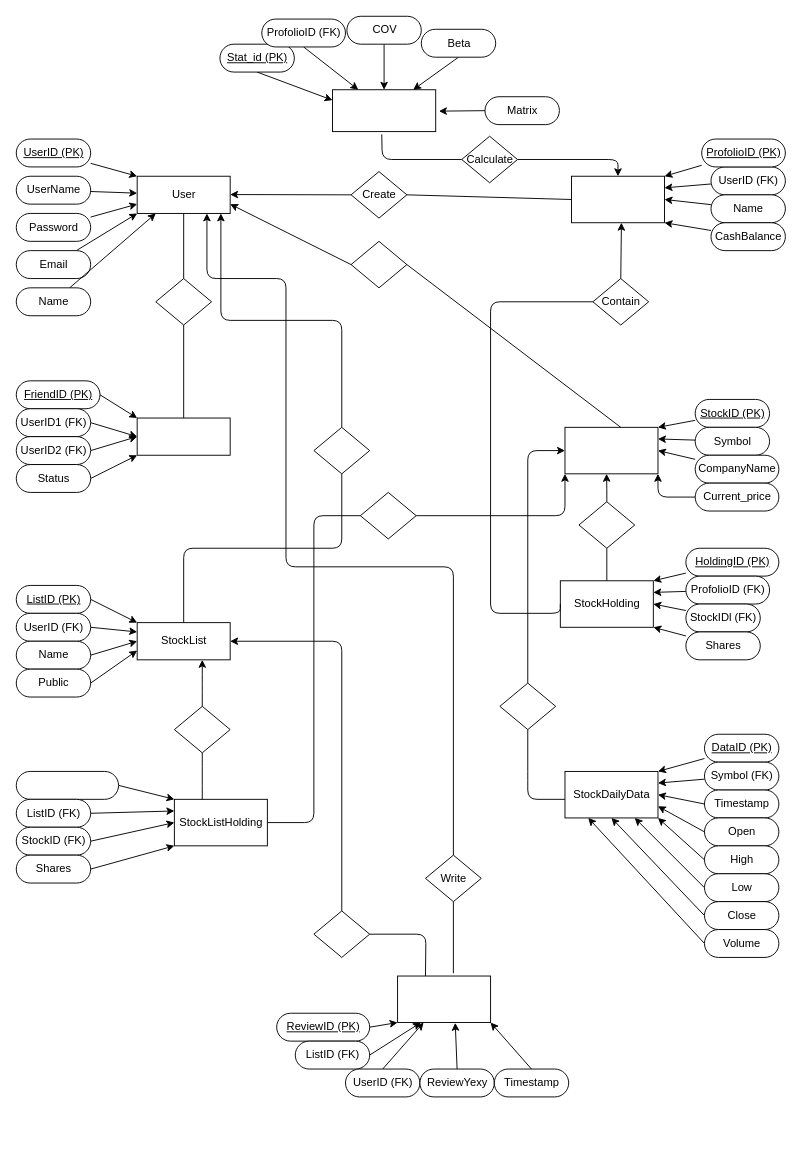
The diagram is 803 pixels wide and 1169 high, and some of its shapes have lost their labels. Here are the shapes that lost their labels. From the top down, the centre of each, then its label:
(384,110): Statics
(617,199): Profolio
(378,264): Add
(183,301): Send
(183,436): Firend
(341,450): Set
(611,450): Stock
(387,515): Is
(606,524): Part
(527,706): Has
(201,729): Include
(67,785): LHoldingID (PK)
(341,933): Recieve
(444,999): Review
